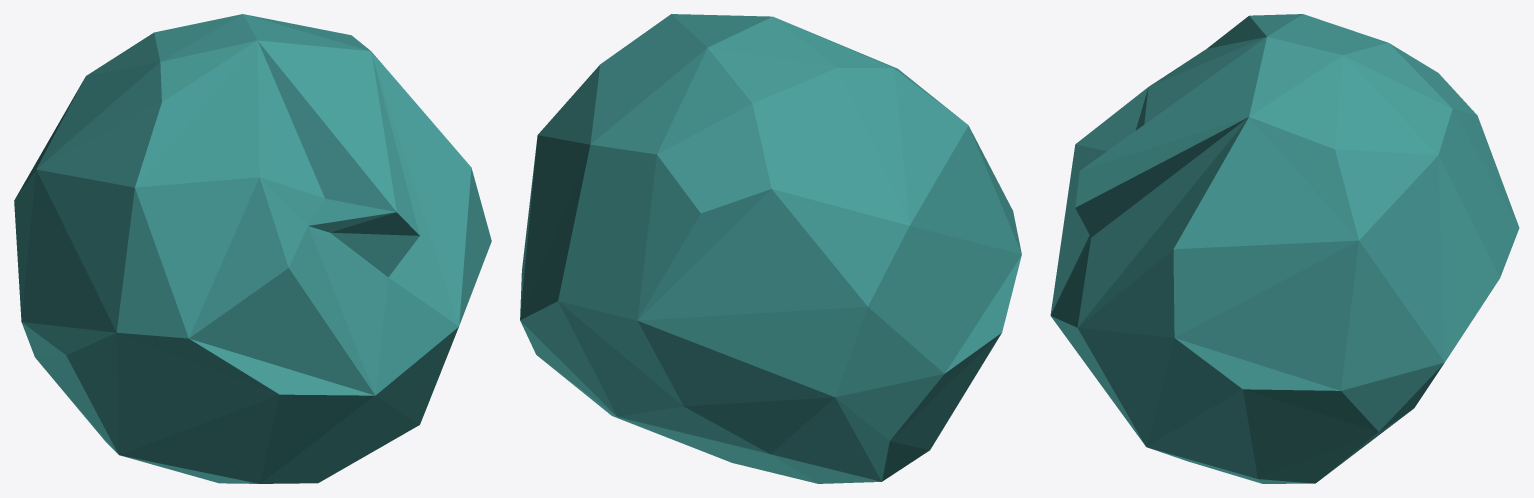
File: Larger Centered Lt. Blue White Blood Cell.fbx
3 views of the same model, side by side, from view 1: azimuth 30°, elevation 25°; view 2: azimuth 150°, elevation 25°; view 3: azimuth 270°, elevation 25° (orthographic). The views are drawn at different scales.
Parts seen in each view (by area): view 1: Smaller_light_turquoise_White_Blood_Cell:White_Blood_Cell:Me; view 2: Smaller_light_turquoise_White_Blood_Cell:White_Blood_Cell:Me; view 3: Smaller_light_turquoise_White_Blood_Cell:White_Blood_Cell:Me.
Boxes of the visible parts, x1,y1,x2,y2 form: Smaller_light_turquoise_White_Blood_Cell:White_Blood_Cell:Me: [14, 14, 491, 483]; Smaller_light_turquoise_White_Blood_Cell:White_Blood_Cell:Me: [520, 14, 1021, 483]; Smaller_light_turquoise_White_Blood_Cell:White_Blood_Cell:Me: [1050, 14, 1519, 483].
Size of the model in its own units: 7.21 by 7.3 by 7.26.
